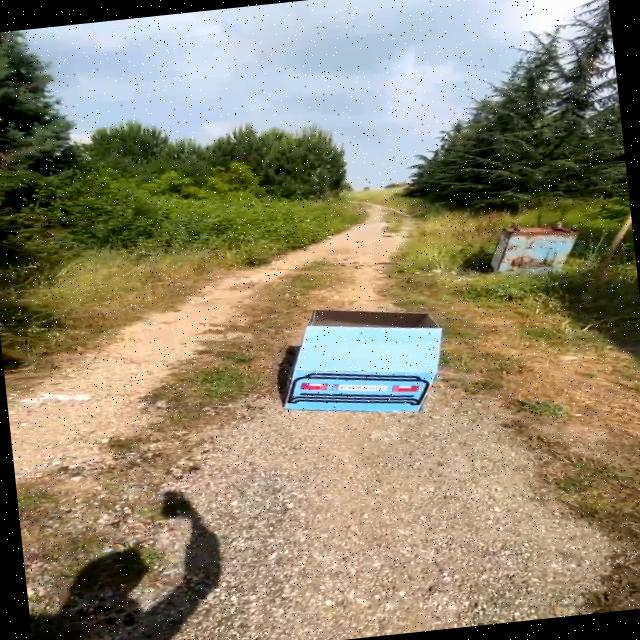blue_car: (243, 283, 473, 438)
